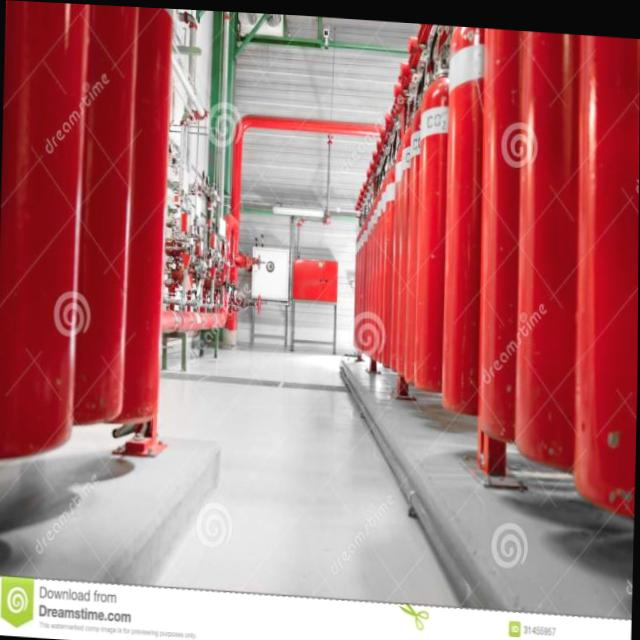FireExtinguisher: (25, 1, 171, 436), (434, 20, 580, 430), (474, 22, 602, 450), (17, 1, 137, 457), (507, 24, 623, 474), (0, 0, 91, 477), (569, 27, 640, 524), (411, 18, 483, 405)
